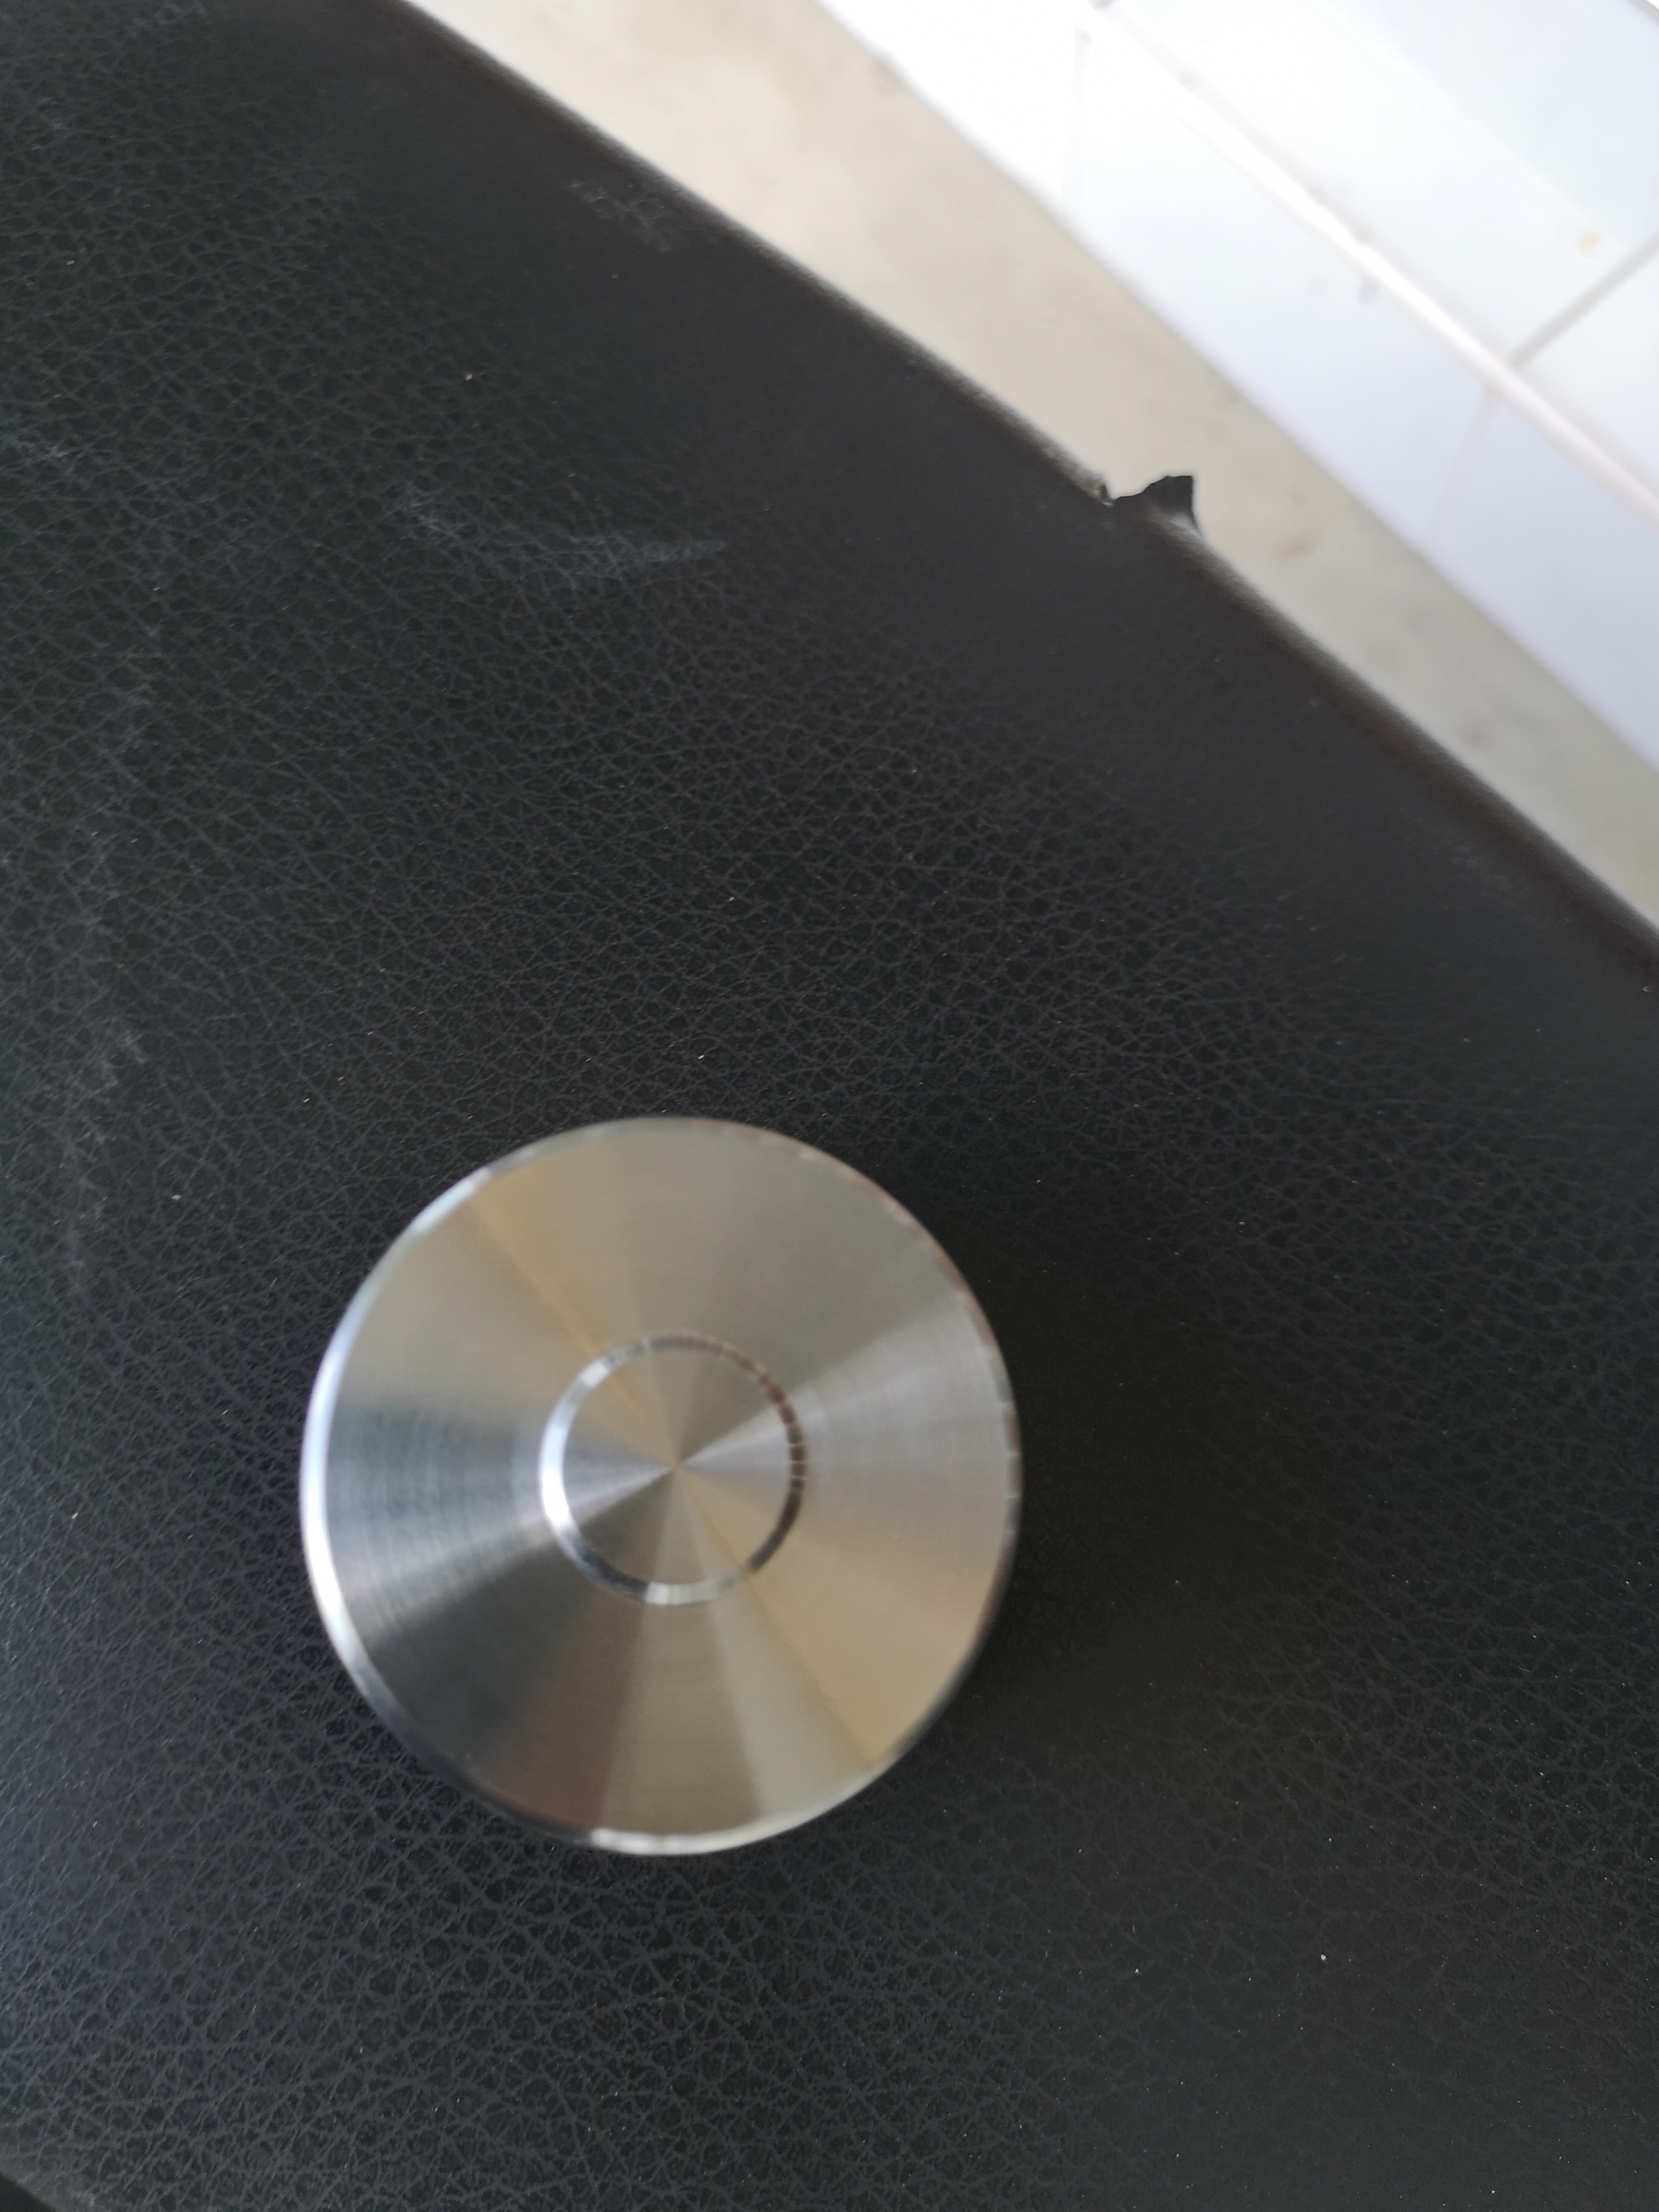ลูกสูบดิสเบรค: (153, 1036, 1124, 2006)
